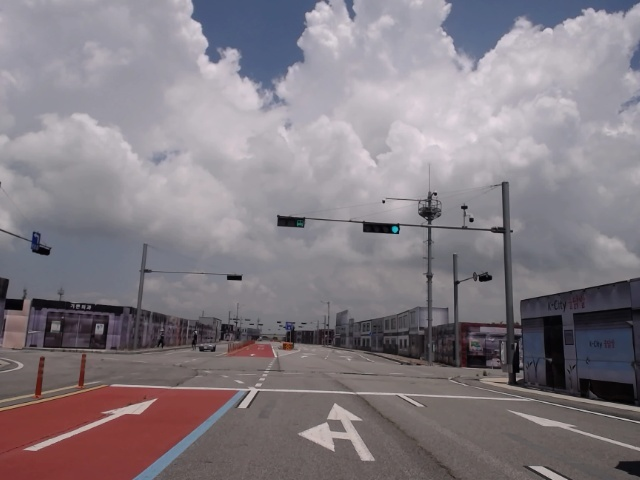straight_green_4: (362, 223, 401, 235)
